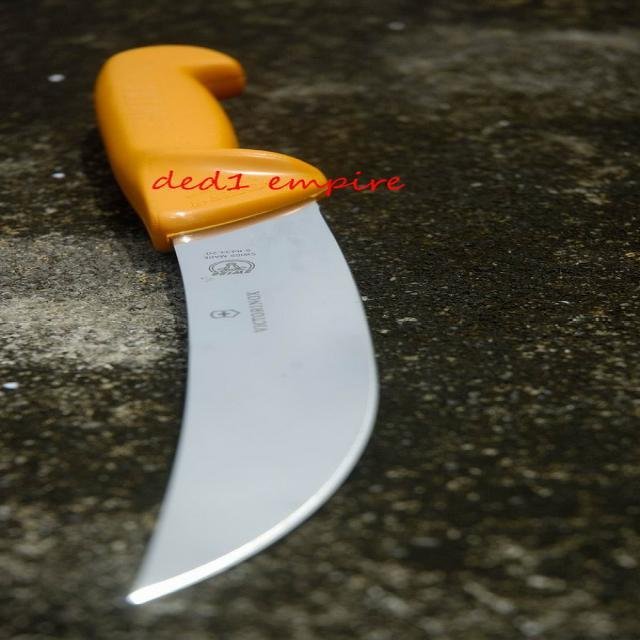Pisau: (75, 37, 408, 612)
